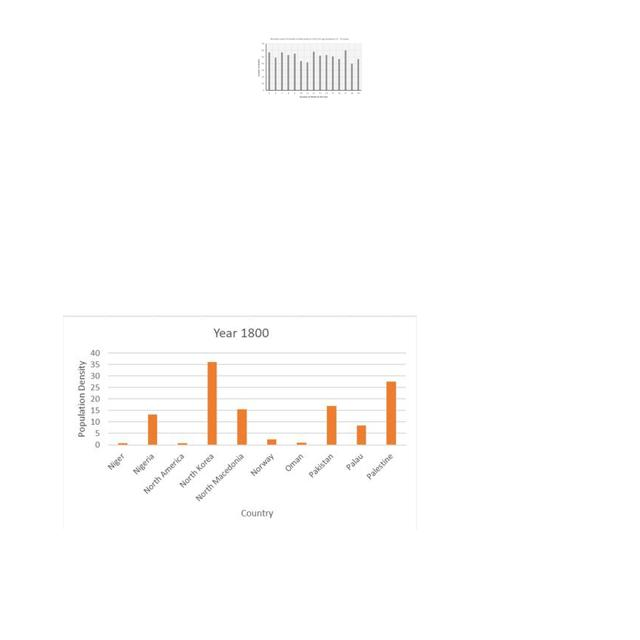Graph: (63, 315, 417, 530), (255, 36, 364, 101)
